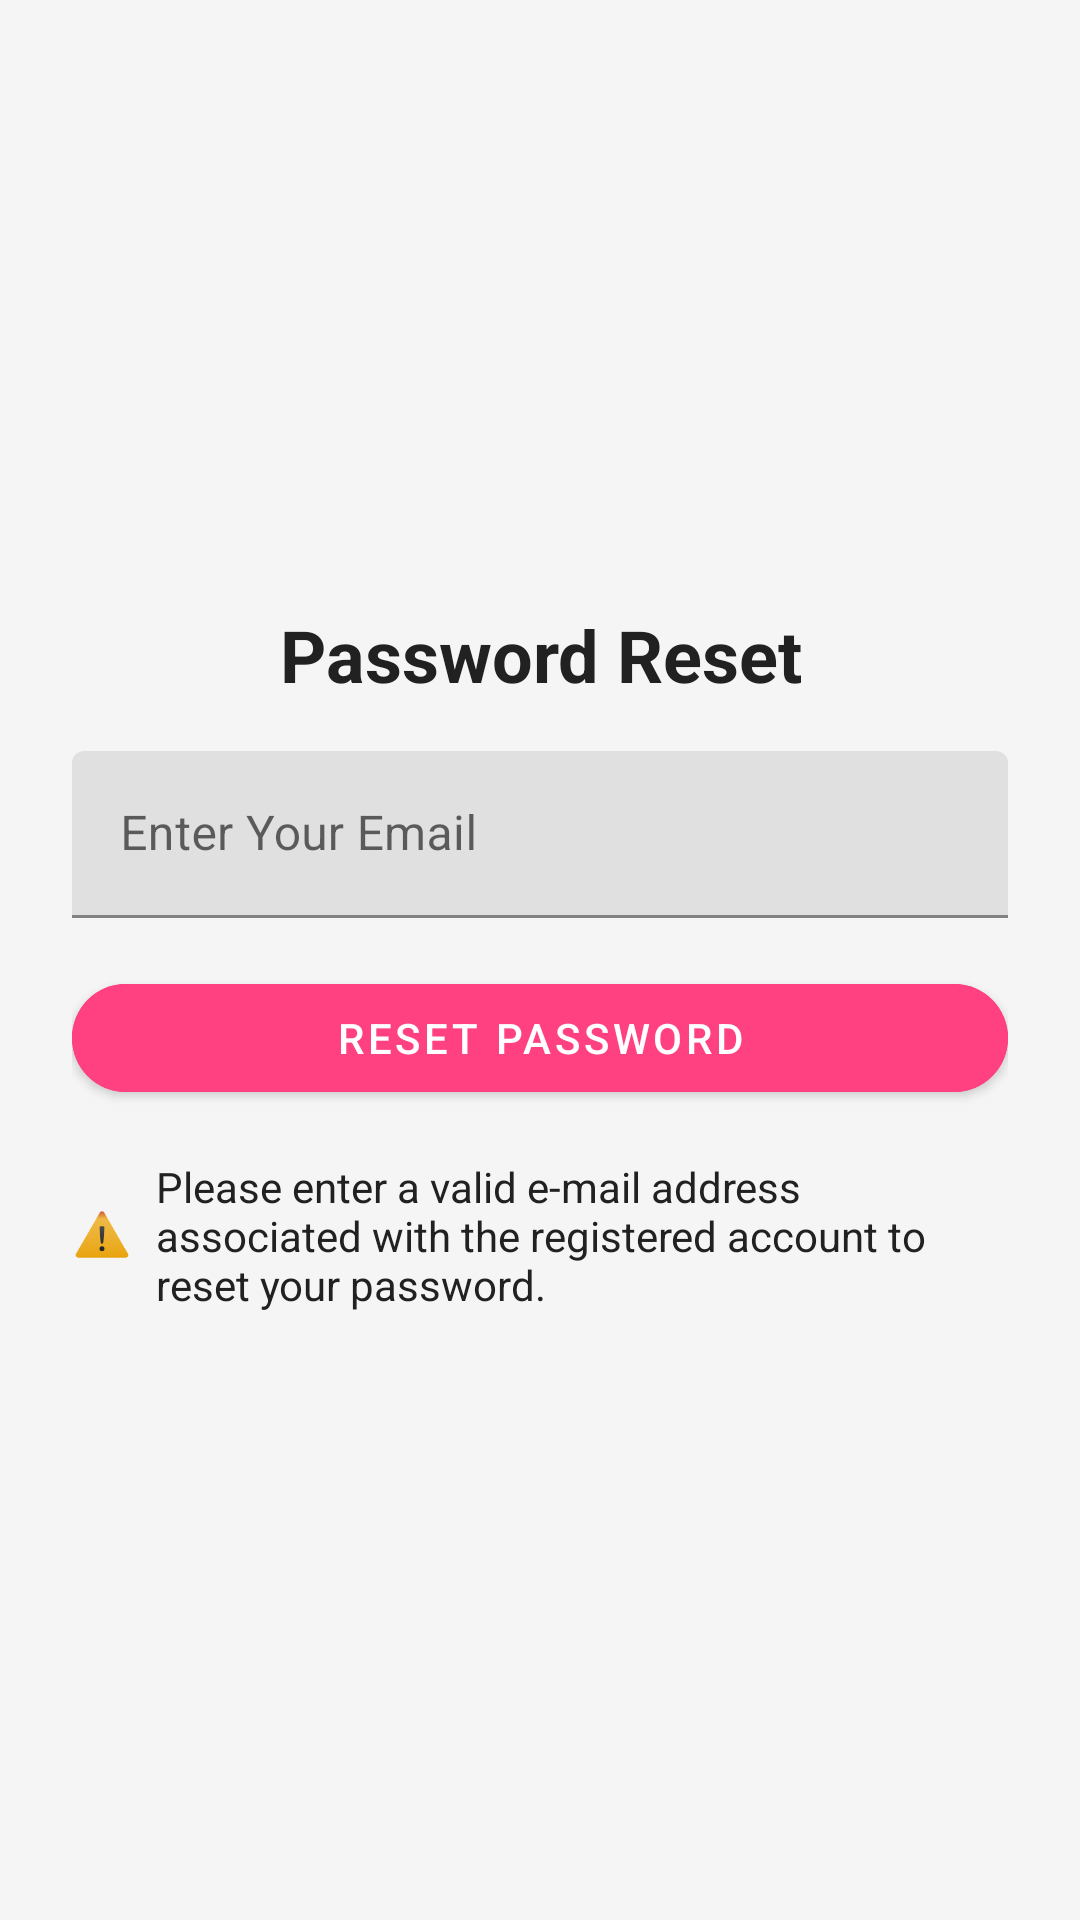

Where icons sit on this 1080x1920 app screen, as (x1, y1, x2, y2):
Alert Icon: (75, 1211, 129, 1258)
